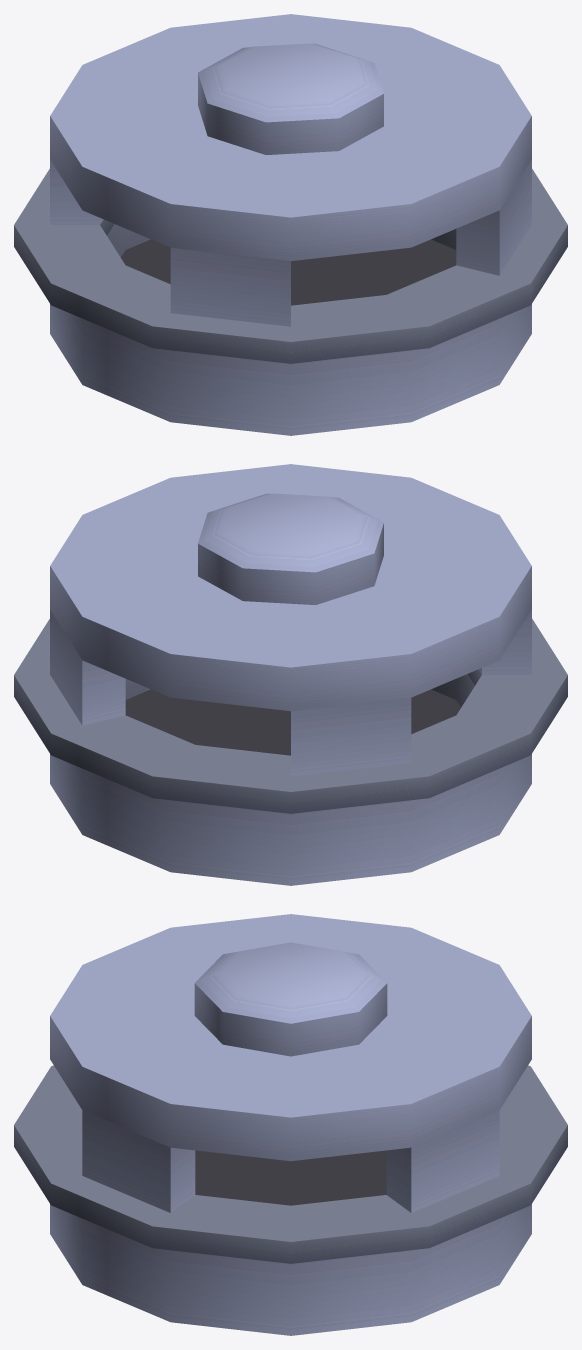
Rendered from tower-round-middle-c.glb.
3 views of the same model, one above another, from view 1: azimuth 30°, elevation 25°; view 2: azimuth 150°, elevation 25°; view 3: azimuth 270°, elevation 25° (orthographic).
Parts seen in each view (by area): view 1: tower-round-middle-c; view 2: tower-round-middle-c; view 3: tower-round-middle-c.
Boxes of the visible parts, x1,y1,x2,y2 form: tower-round-middle-c: (14,14,567,435); tower-round-middle-c: (14,464,567,885); tower-round-middle-c: (14,914,567,1335).
Size of the model in its own units: 1.15 by 0.6001 by 1.15.
Materials: 1 (1 with a texture image).
